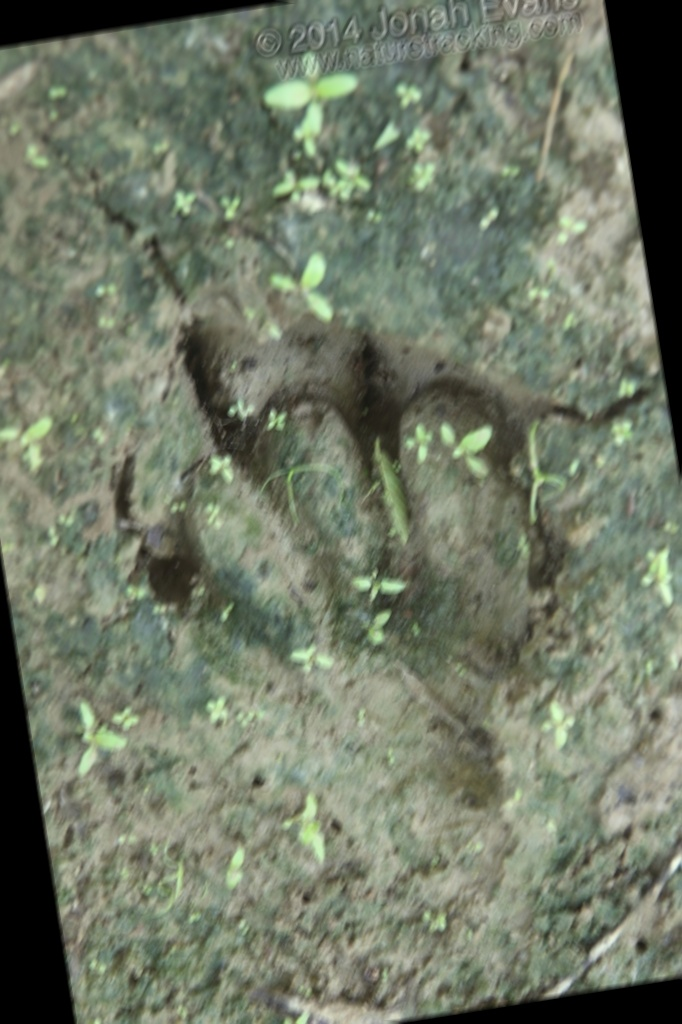beaver: (47, 249, 667, 898)
